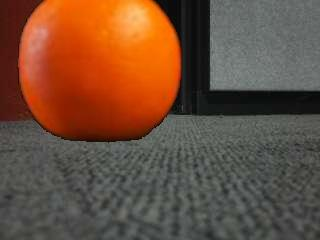Orange: (18, 0, 182, 142)
